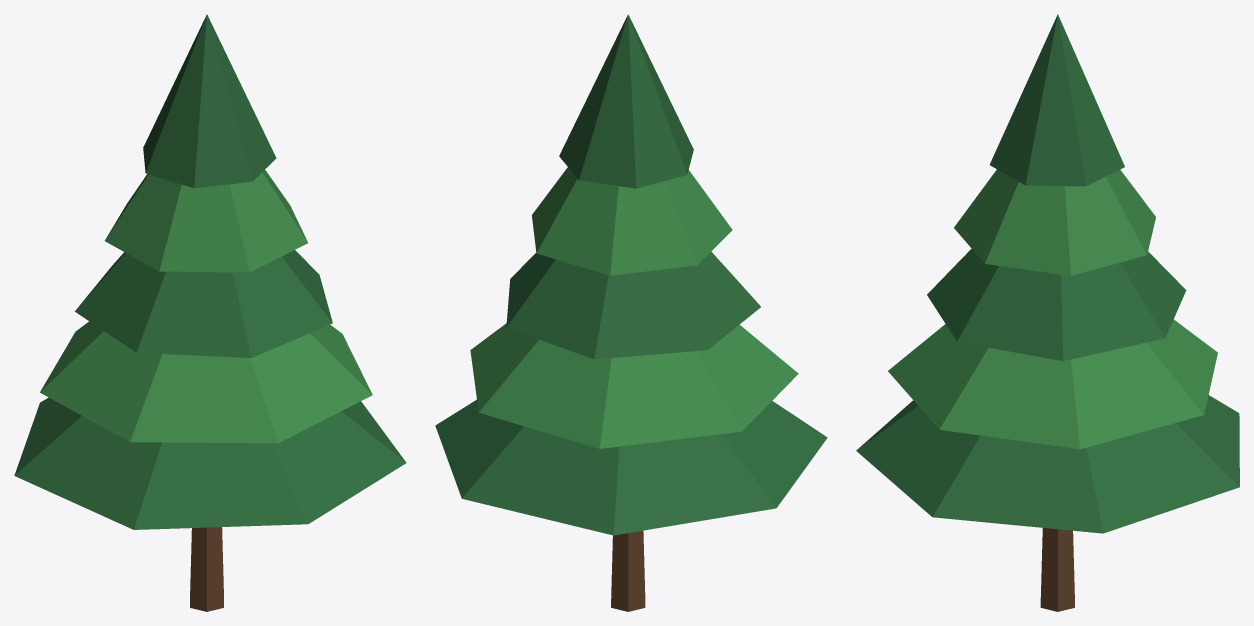
File: pine-b.glb
3 views of the same model, side by side, from view 1: azimuth 30°, elevation 25°; view 2: azimuth 150°, elevation 25°; view 3: azimuth 270°, elevation 25° (orthographic).
Visible parts, largest first — view 1: tree; view 2: tree; view 3: tree.
Part boxes in pixels (box(x1,y1,x2,y2)): tree: box(14, 14, 406, 611); tree: box(435, 14, 827, 611); tree: box(856, 14, 1239, 611).
Bounding box in the file's own units: 6.38 × 10.55 × 6.23.
